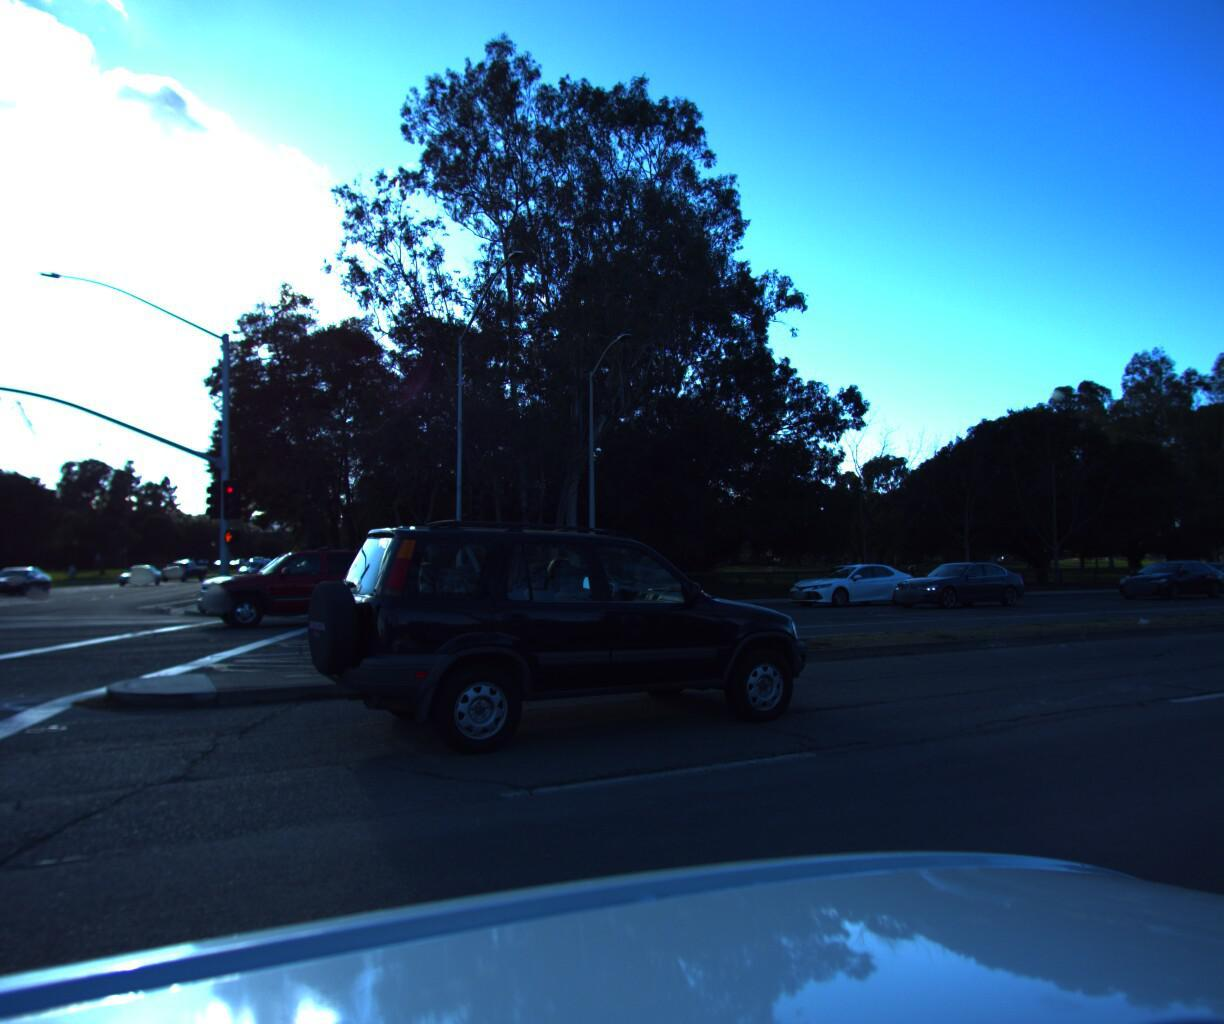car: (276, 486, 836, 783), (182, 543, 436, 631), (874, 558, 1022, 607), (774, 557, 917, 605), (1098, 555, 1224, 598), (1165, 557, 1224, 592), (117, 561, 167, 581)
